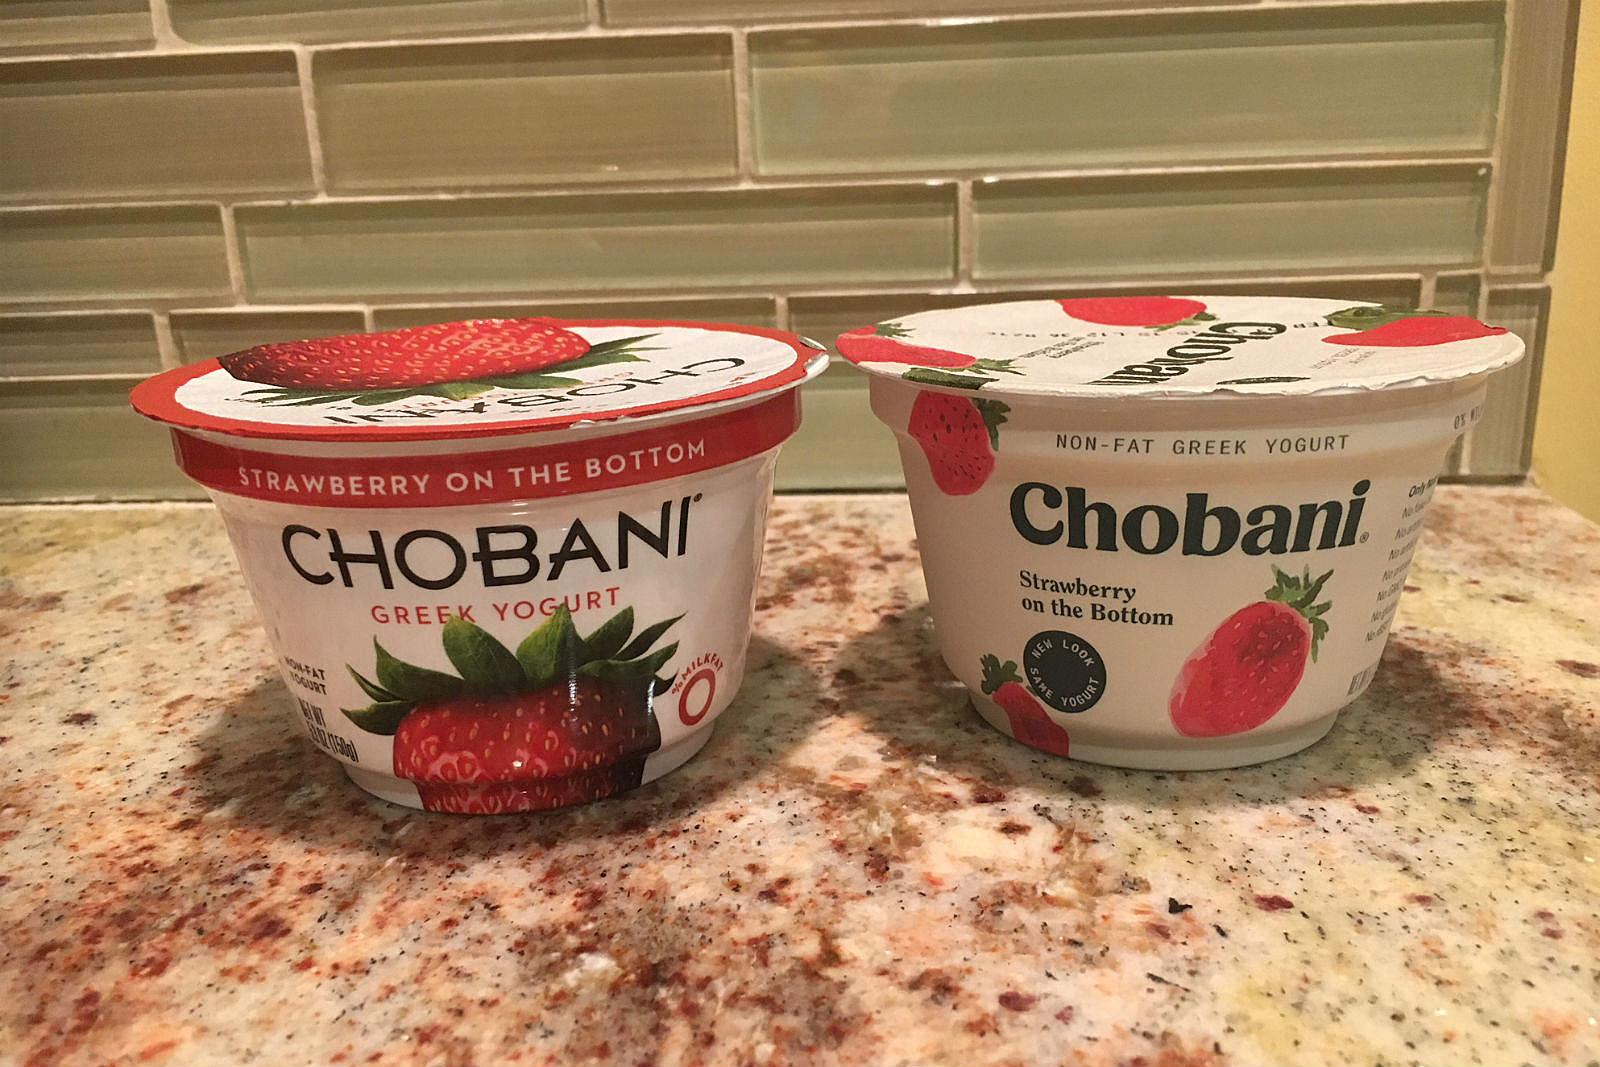plastic: (132, 318, 827, 812), (837, 297, 1521, 767)
